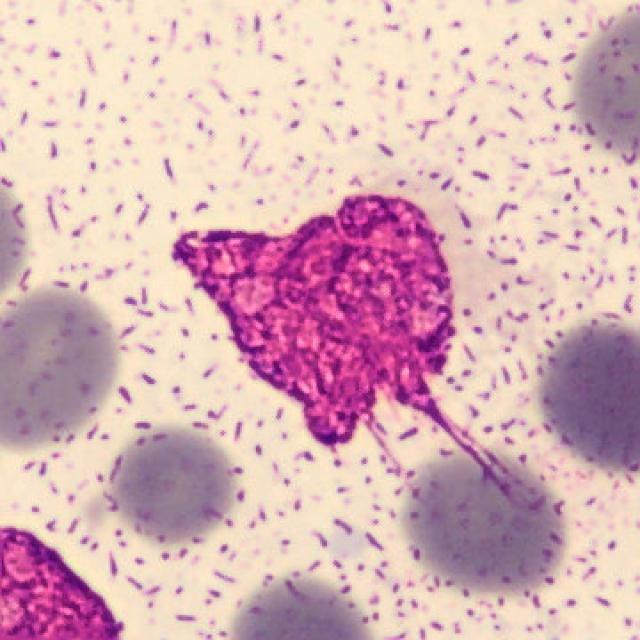Restos celulares: (172, 196, 482, 462)
